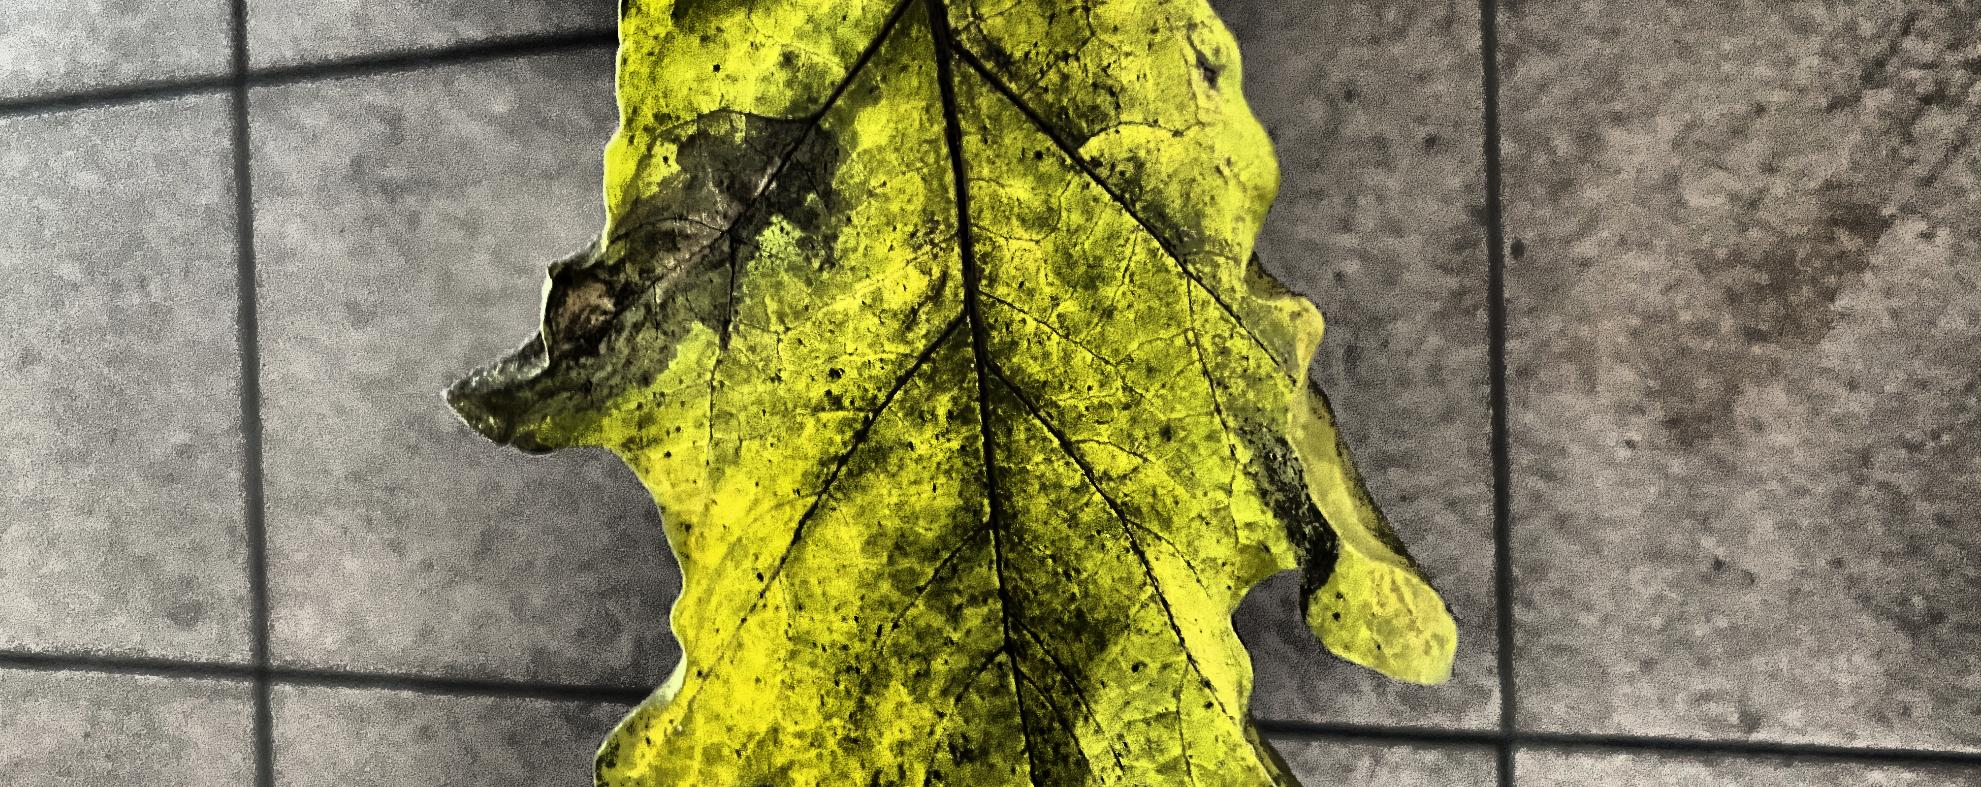Critical Stress: (0, 120, 1468, 787)
